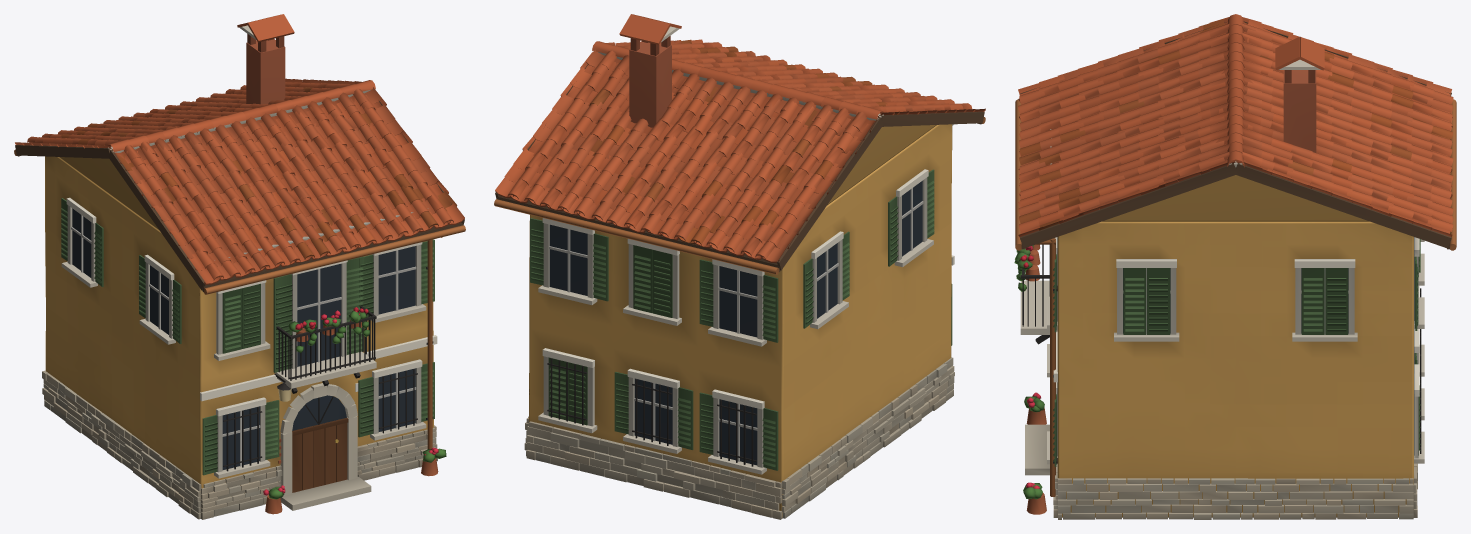
The model's file is casa_ocra.glb.
3 views of the same model, side by side, from view 1: azimuth 30°, elevation 25°; view 2: azimuth 150°, elevation 25°; view 3: azimuth 270°, elevation 25° (orthographic). The views are drawn at different scales.
Visible parts, largest first — view 1: casa_ocra; view 2: casa_ocra; view 3: casa_ocra.
Part boxes in pixels (box(x1,y1,x2,y2)): casa_ocra: box(14, 14, 465, 519); casa_ocra: box(494, 14, 985, 519); casa_ocra: box(1014, 14, 1456, 519).
Bounding box in the file's own units: 5.88 × 8.11 × 7.44.
